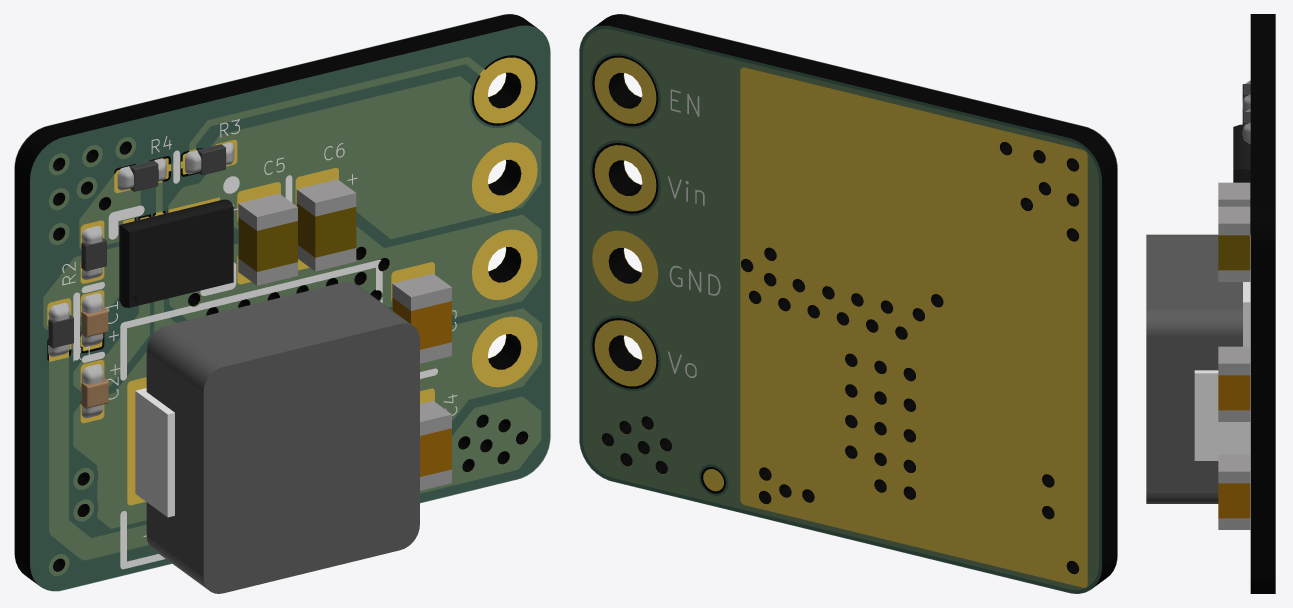
File: BuckReFullyAssembledWithoutSolder.glb
The picture shows the model from 3 angles, left to right: view 1: azimuth 30°, elevation 25°; view 2: azimuth 150°, elevation 25°; view 3: azimuth 270°, elevation 25°; orthographic projection. The views are drawn at different scales.
Visible parts, largest first — view 1: Shape_4, Shape_2, Body1, Shape, Shape_1, Body2015002, Shape_7, Body2001_1004, Body2001_1003, Body2001_2002, Body2001_2003, Body2001_2 (+8 smaller); view 2: Shape_5, Shape_6, Shape_1, Shape, Shape_4, Shape_8; view 3: Body1, Shape_1, Body2001_2, Body2001_2001, Body2001_2002, Body2001_1001, Body2001_1002, Body2001_1003, Body2015002, Body2001_2003.
Part boxes in pixels (x1=…): Shape_4: x1=30, y1=25, x2=550, y2=591; Shape_2: x1=44, y1=57, x2=541, y2=575; Body1: x1=135, y1=281, x2=419, y2=593; Shape: x1=29, y1=25, x2=549, y2=590; Shape_1: x1=15, y1=14, x2=537, y2=585; Body2015002: x1=119, y1=199, x2=233, y2=307; Shape_7: x1=62, y1=119, x2=457, y2=569; Body2001_1004: x1=238, y1=217, x2=297, y2=271; Body2001_1003: x1=296, y1=203, x2=356, y2=257; Body2001_2002: x1=296, y1=179, x2=356, y2=271; Body2001_2003: x1=238, y1=193, x2=297, y2=285; Body2001_2: x1=392, y1=273, x2=451, y2=363; Shape_5: x1=583, y1=29, x2=1098, y2=589; Shape_6: x1=579, y1=25, x2=1101, y2=593; Shape_1: x1=592, y1=14, x2=1117, y2=588; Shape: x1=580, y1=25, x2=1102, y2=592; Shape_4: x1=612, y1=14, x2=1117, y2=574; Shape_8: x1=668, y1=89, x2=720, y2=378; Body1: x1=1146, y1=234, x2=1250, y2=503; Shape_1: x1=1250, y1=14, x2=1275, y2=593; Body2001_2: x1=1218, y1=346, x2=1250, y2=421; Body2001_2001: x1=1218, y1=454, x2=1250, y2=529; Body2001_2002: x1=1218, y1=206, x2=1250, y2=281; Body2001_1001: x1=1218, y1=375, x2=1250, y2=410; Body2001_1002: x1=1218, y1=483, x2=1250, y2=518; Body2001_1003: x1=1218, y1=235, x2=1250, y2=270; Body2015002: x1=1233, y1=124, x2=1250, y2=234; Body2001_2003: x1=1218, y1=182, x2=1250, y2=206.
Size of the model in its own units: 15.88 by 13.21 by 4.1.
